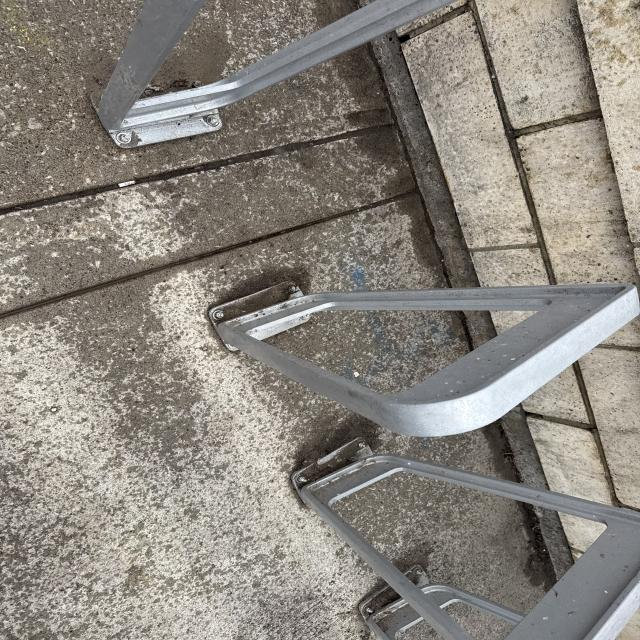Bicycle Rack: (207, 282, 632, 438), (296, 446, 638, 639), (97, 0, 460, 152), (357, 563, 517, 640)
